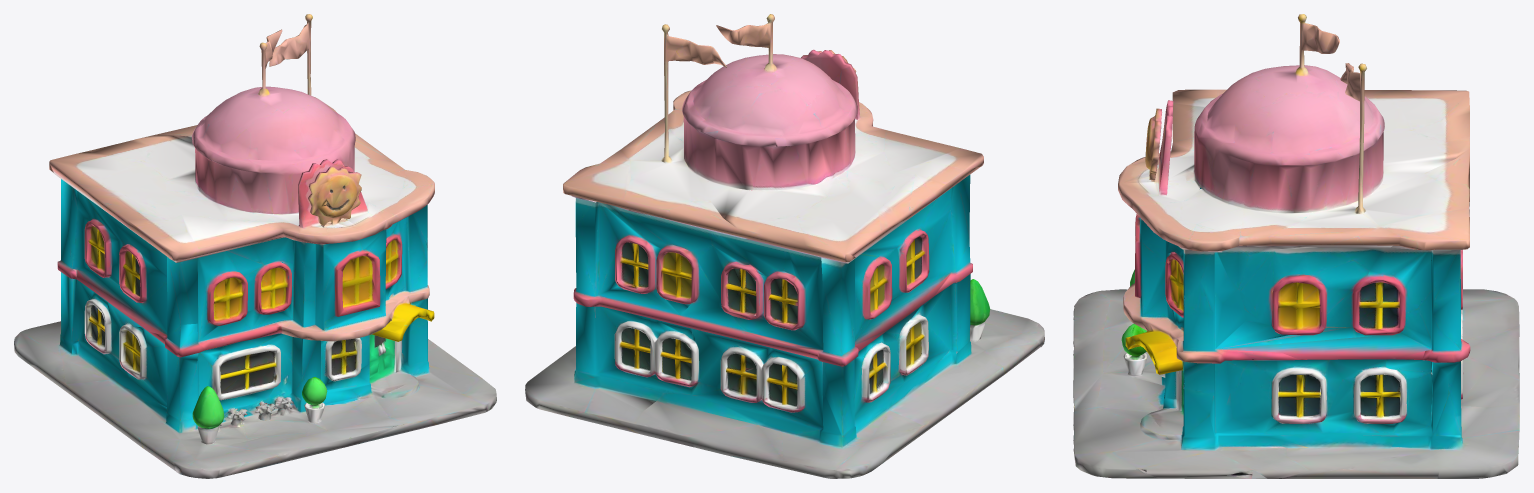
3 renders of one model, left to right at view 1: azimuth 30°, elevation 25°; view 2: azimuth 150°, elevation 25°; view 3: azimuth 270°, elevation 25°, orthographic. The views are drawn at different scales.
Bounding box in the file's own units: 1.8 × 1.78 × 1.89.
1 material, 1 textured.
